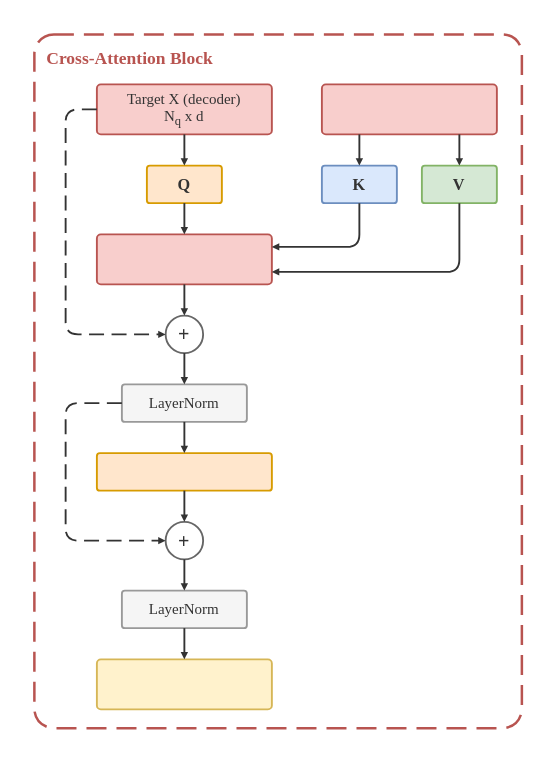
Image size: 555x761. Some labels were removed from this diagram. The box of each missing label's shape, as (x1, y1, x2, y2) in pixels:
Context Y (encoder) N kv x d: (320, 83, 497, 135)
Feed-Forward: (95, 452, 272, 491)
Multi-Head Cross-Attention: (95, 233, 272, 285)
Output N q x d: (95, 658, 272, 710)
